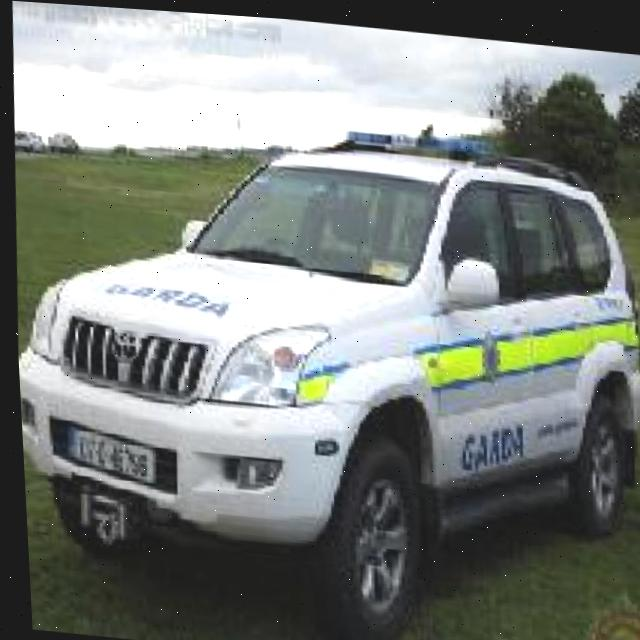emergency: (3, 83, 640, 640)
